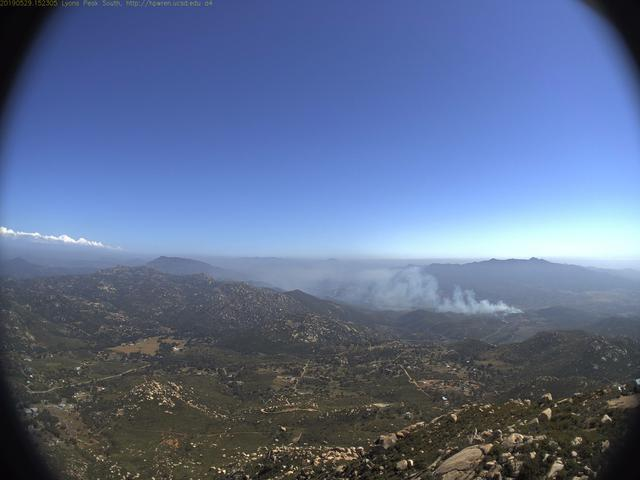smoke: (304, 253, 524, 319)
